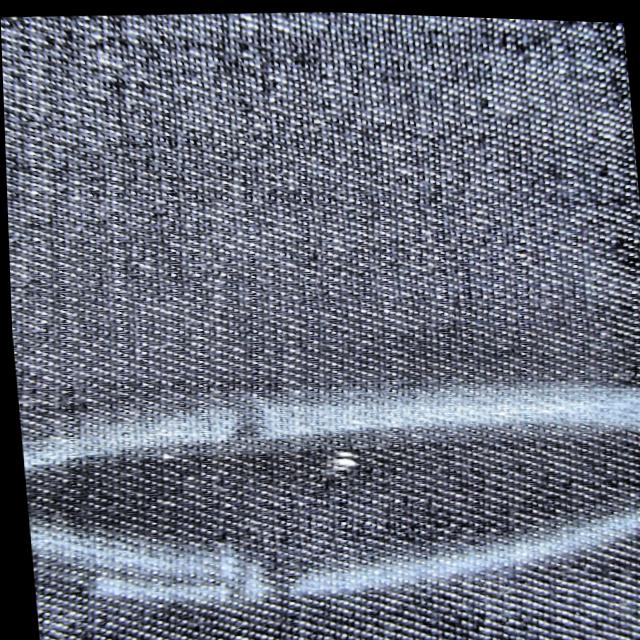Hole: (306, 443, 374, 473)
